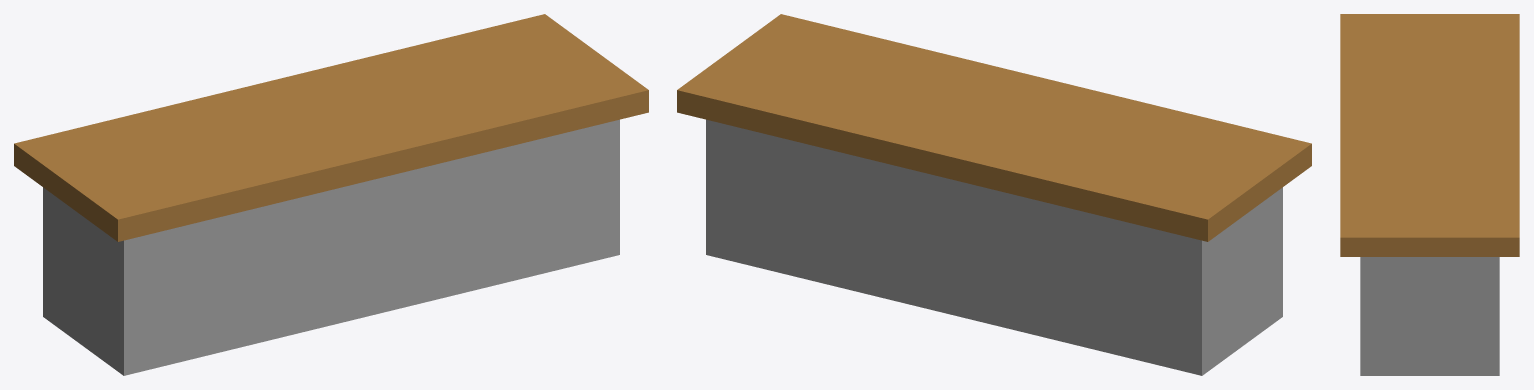
Rendered from workbench.fbx.
The picture shows the model from 3 angles, left to right: view 1: azimuth 30°, elevation 25°; view 2: azimuth 150°, elevation 25°; view 3: azimuth 270°, elevation 25°; orthographic projection. The views are drawn at different scales.
Visible parts, largest first — view 1: Cube; view 2: Cube; view 3: Cube.
Boxes of the visible parts, bbox=[...] form: Cube: bbox=[14, 14, 648, 375]; Cube: bbox=[677, 14, 1311, 375]; Cube: bbox=[1340, 14, 1519, 375].
Size of the model in its own units: 758 by 231 by 257.
